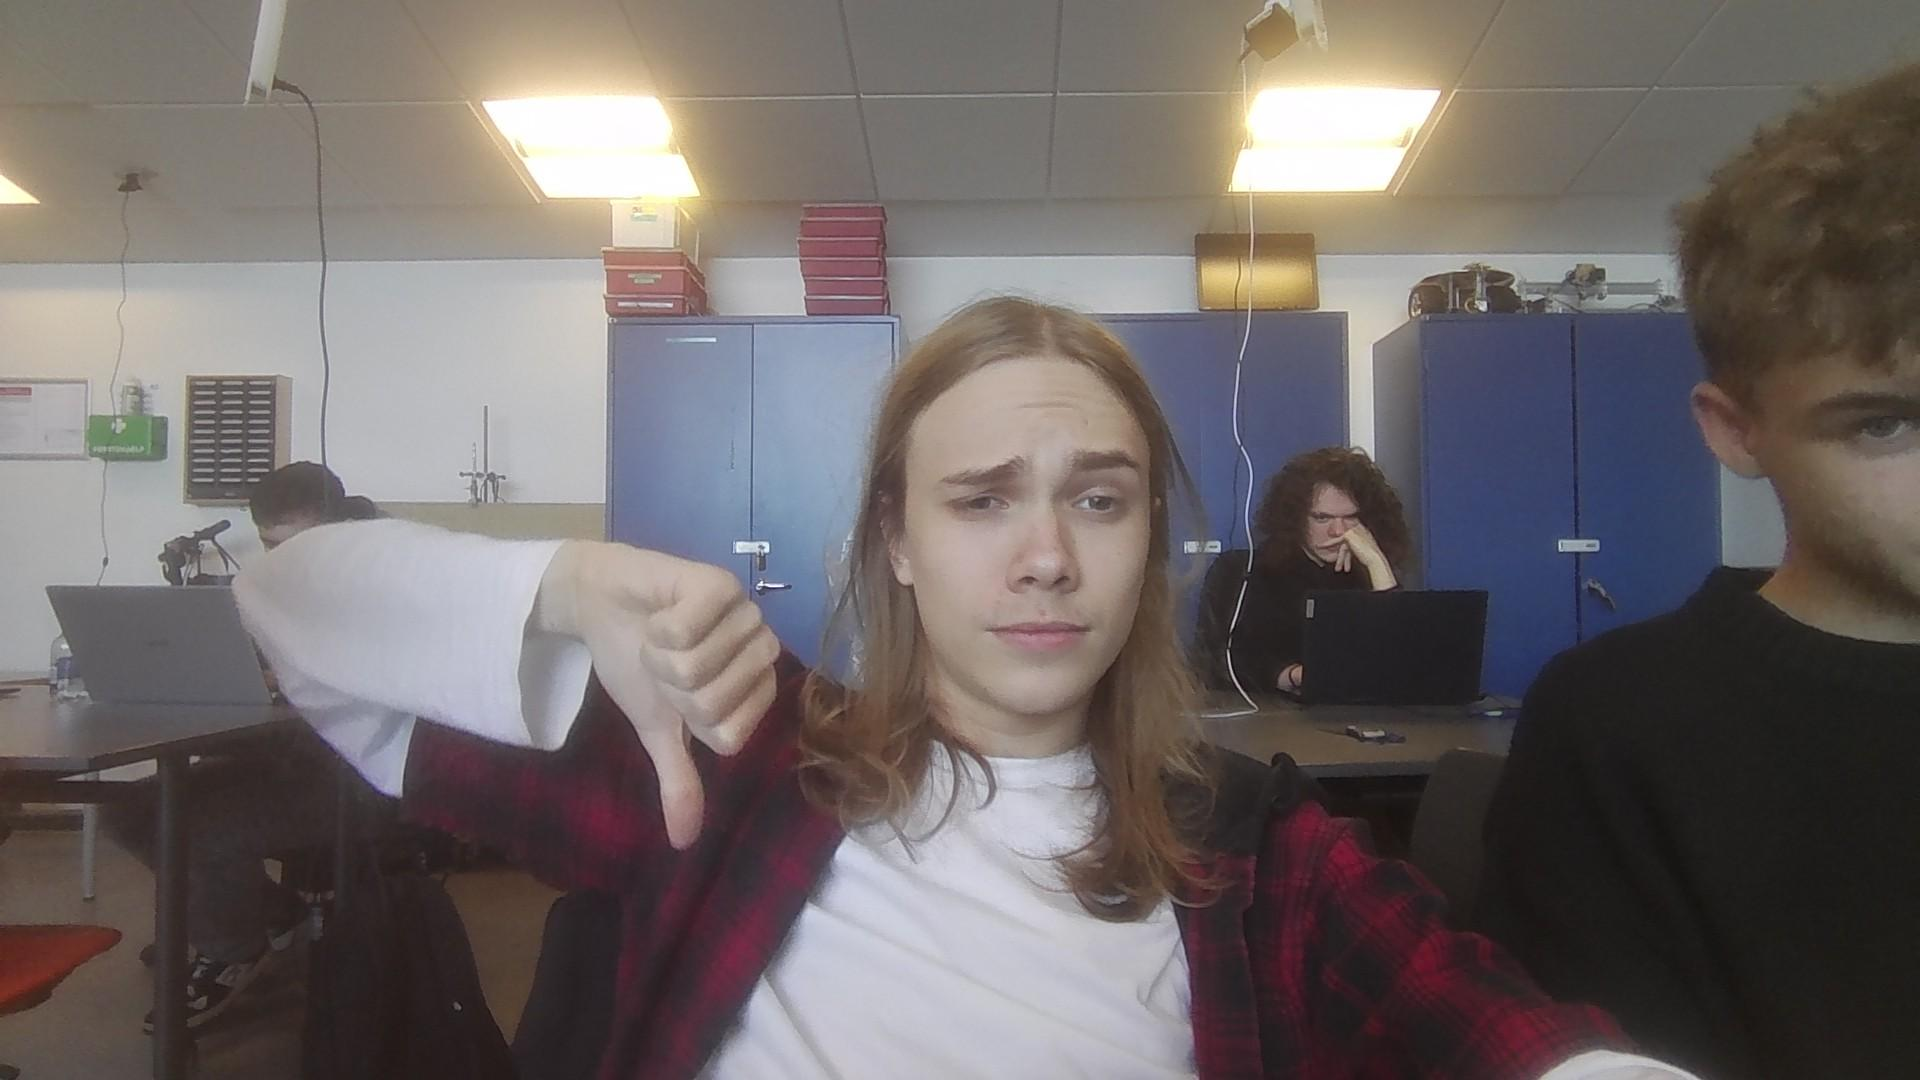thumbs down: (600, 526, 785, 848)
